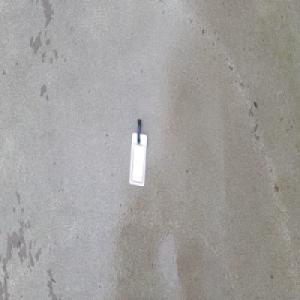LuggageTag: (128, 117, 149, 188)
